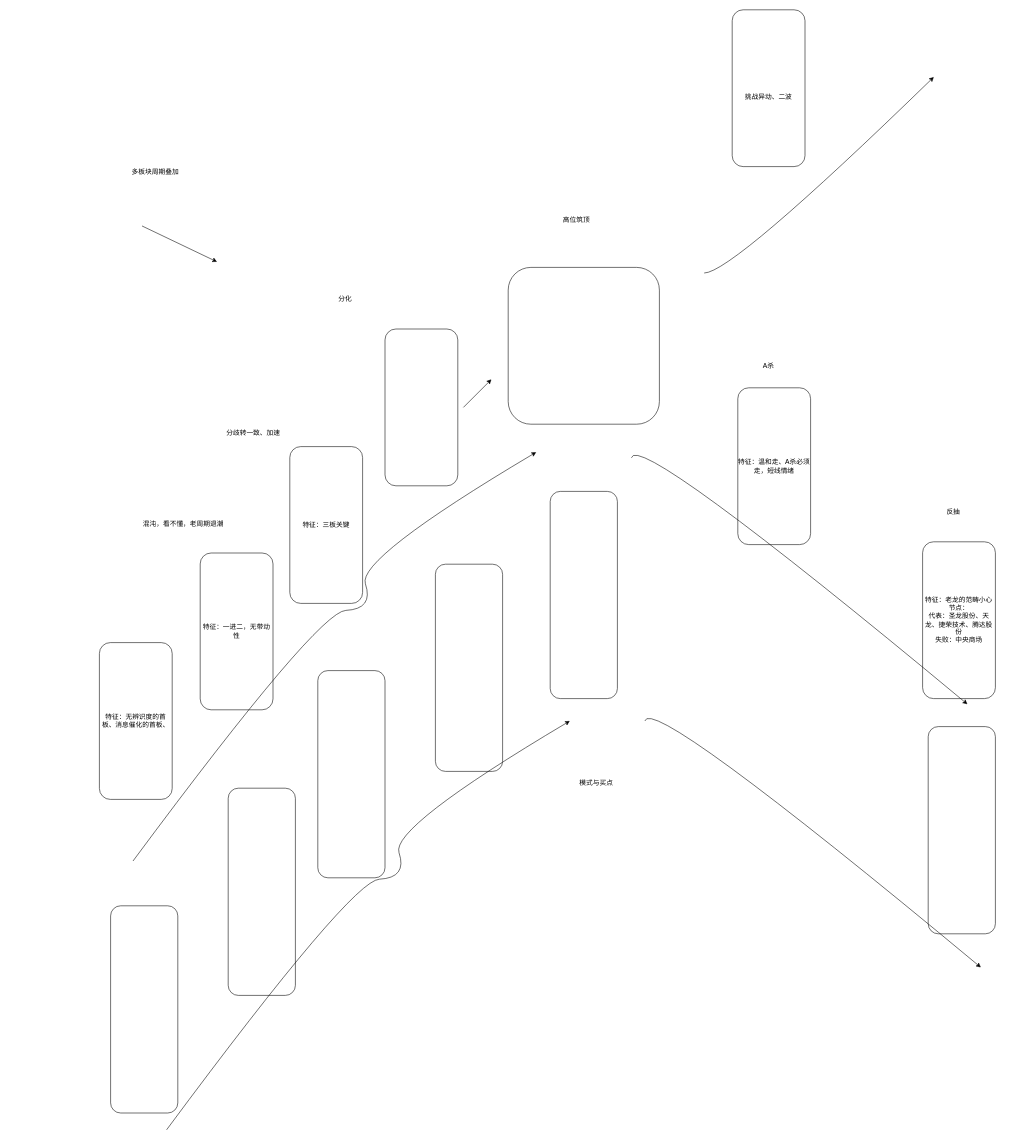
Some shapes in this 1021 by 1140 pixel diagram are drawn without their labels. Here are the shapes that lost their labels. From the top down, the box of each, then its label:
(732, 9, 805, 167): 代表：捷荣、正丹
(508, 267, 659, 424): 代表：大众、正丹 特征：十日线、抱团标的、 带领tag: 启明信息 注意分离：大众和金龙轮流、大众没有带动性单独走抱团逻辑
(384, 328, 458, 486): 特征：如果龙很高后排有带动，此时龙不走坏就可以，正常分歧。 注意新的领涨龙， 注意新的发酵分偏
